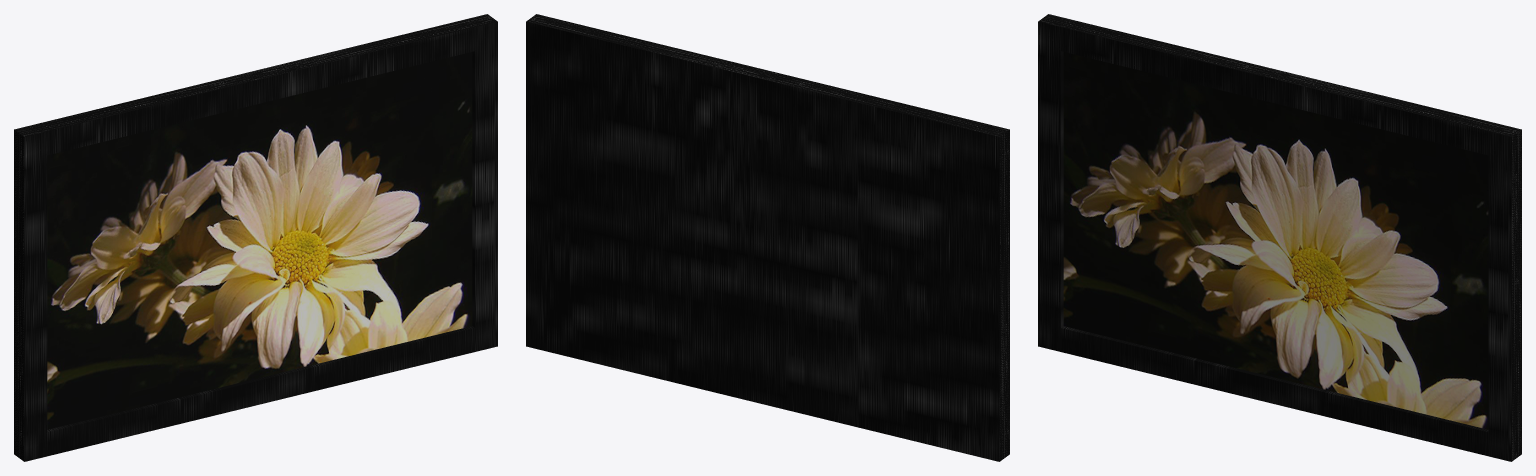
Rendered from picture_6.fbx.
3 renders of one model, left to right at view 1: azimuth 30°, elevation 25°; view 2: azimuth 150°, elevation 25°; view 3: azimuth 330°, elevation 25°, orthographic.
Visible parts, largest first — view 1: picture_6; view 2: picture_6; view 3: picture_6.
Boxes of the visible parts, x1,y1,x2,y2 form: picture_6: (14,14,497,461); picture_6: (526,14,1009,461); picture_6: (1038,14,1521,461).
Size of the model in its own units: 0.9241 by 0.6061 by 0.035.
